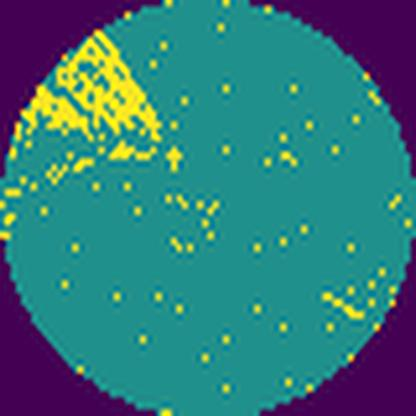Loc: (56, 29, 164, 140), (19, 86, 94, 144)
